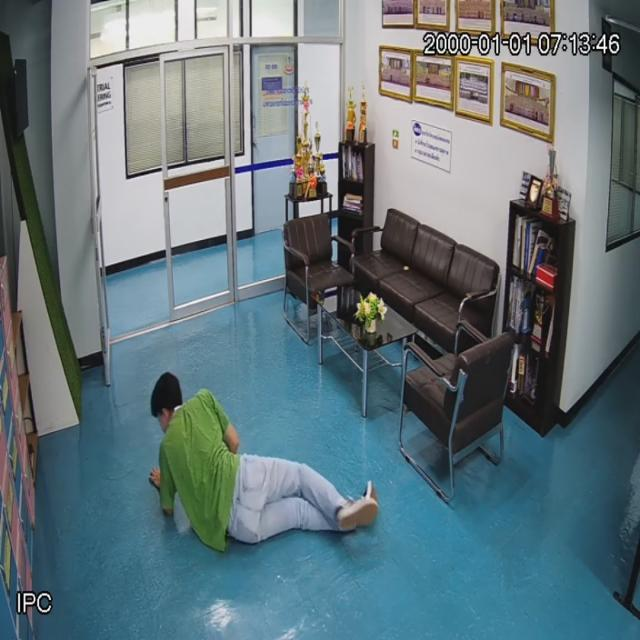fall: (152, 370, 368, 556)
